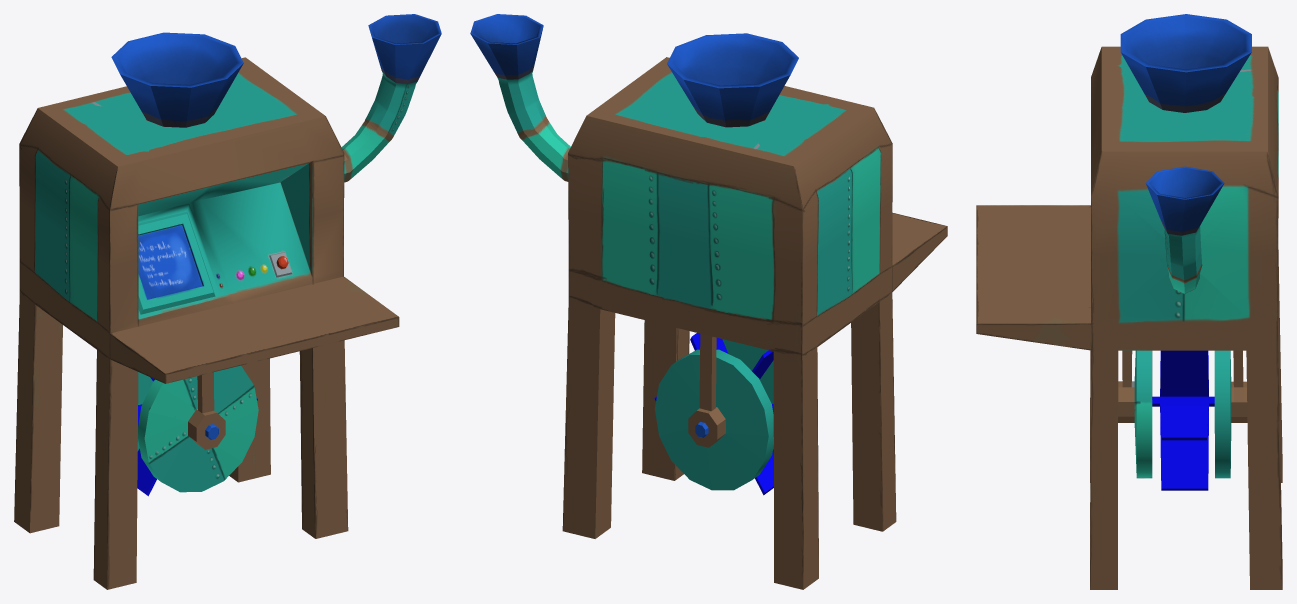
File: nut-o-matic_nuthouse.fbx
The picture shows the model from 3 angles, left to right: view 1: azimuth 30°, elevation 25°; view 2: azimuth 150°, elevation 25°; view 3: azimuth 270°, elevation 25°; orthographic projection. The views are drawn at different scales.
Visible parts, largest first — view 1: body, turbine; view 2: body, turbine; view 3: body, turbine.
Part boxes in pixels (left/top/right/bottom): body: left=14, top=14, right=441, bottom=589; turbine: left=137, top=377, right=257, bottom=496; body: left=470, top=14, right=947, bottom=589; turbine: left=654, top=333, right=773, bottom=495; body: left=976, top=14, right=1282, bottom=589; turbine: left=1152, top=350, right=1214, bottom=490.
Bounding box in the file's own units: 2274 × 2695 × 1547.
Materials: 2 (1 with a texture image).
